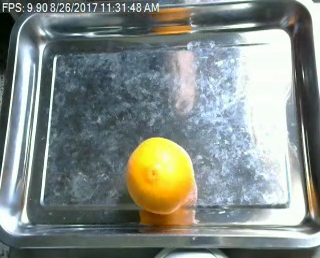Orange: (126, 136, 194, 215)
